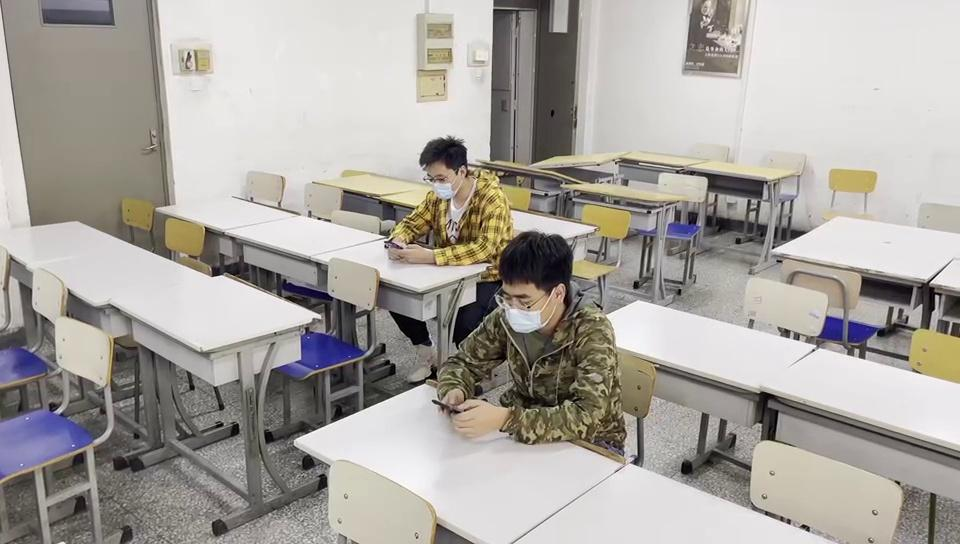phone: (437, 266, 611, 440), (381, 137, 491, 261)
